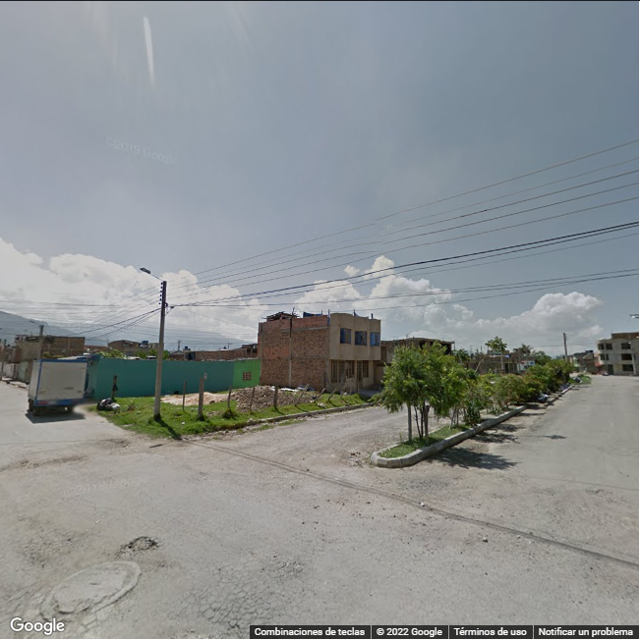D20: (188, 567, 279, 635)
D40: (123, 534, 157, 555)
